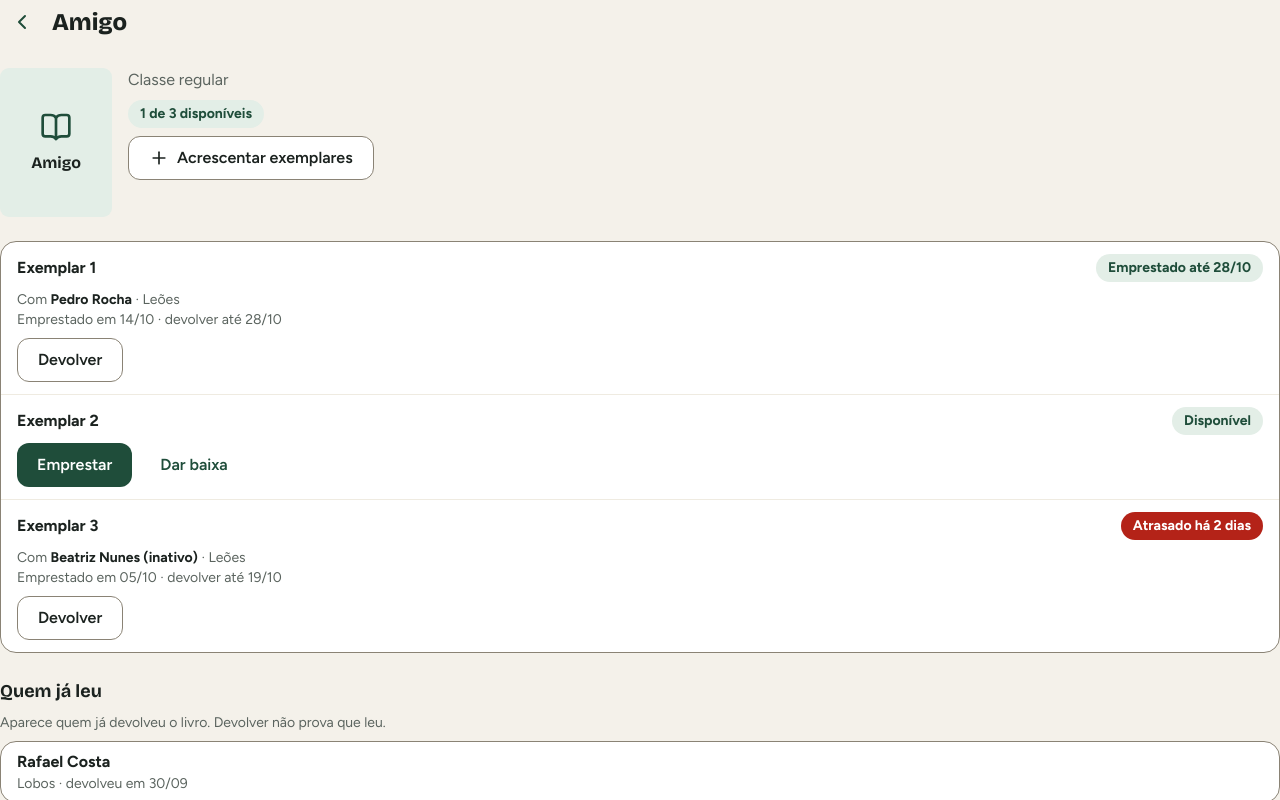
detalhe do livro › Devolver abre o diálogo do empréstimo daquele exemplar e grava a devolução dele
The width and height of the screenshot is (1280, 800).
What coordinates should you click on to do the following:
click the button with aria-label "Devolver o exemplar 3"
I would click on:
 (70, 618)
Its box is [17,596,123,640].
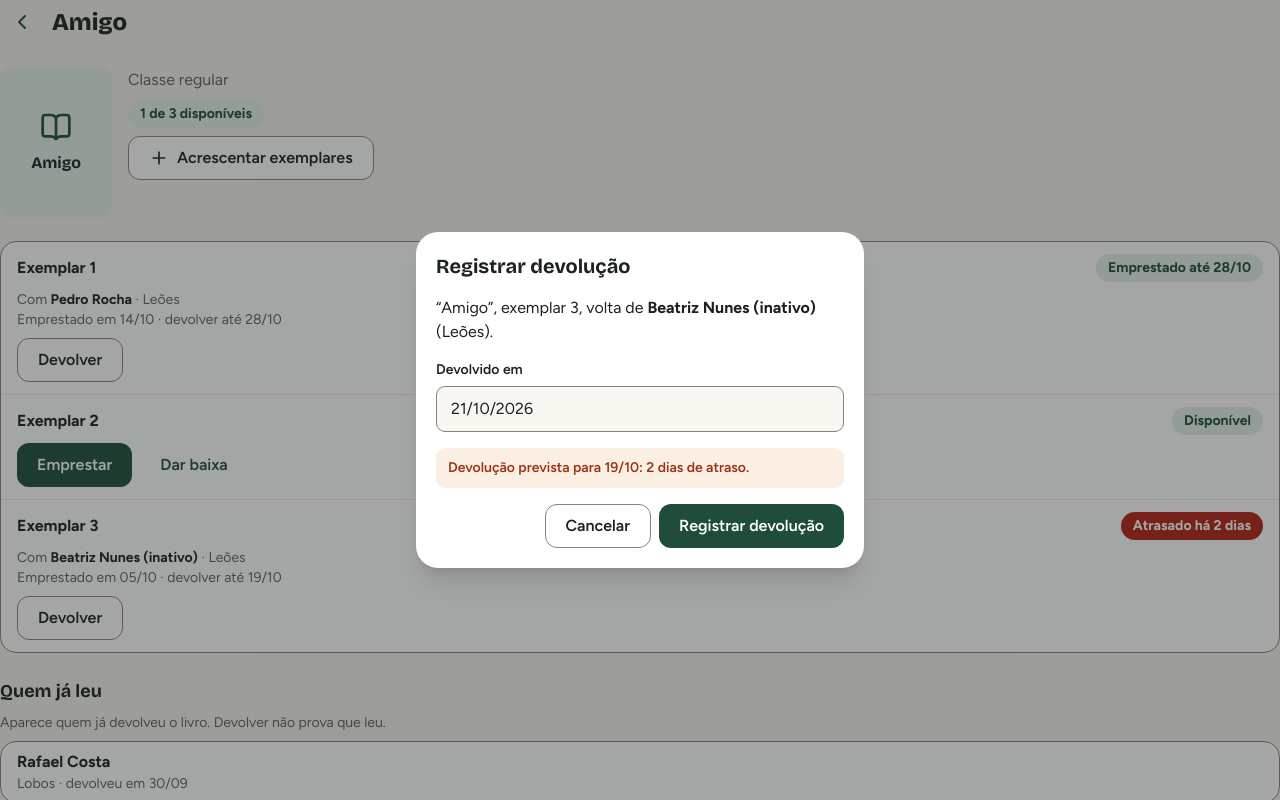
Expected: the text "Beatriz Nunes (inativo)" is shown, [647,298,816,317]
Expected: the text "Devolução prevista para 19/10: 2 dias de atraso." is shown, [436,448,844,488]
What coordinates should you click on to do the following:
click the button "Registrar devolução"
I would click on:
 (752, 526)
Its box is [659,504,844,548].
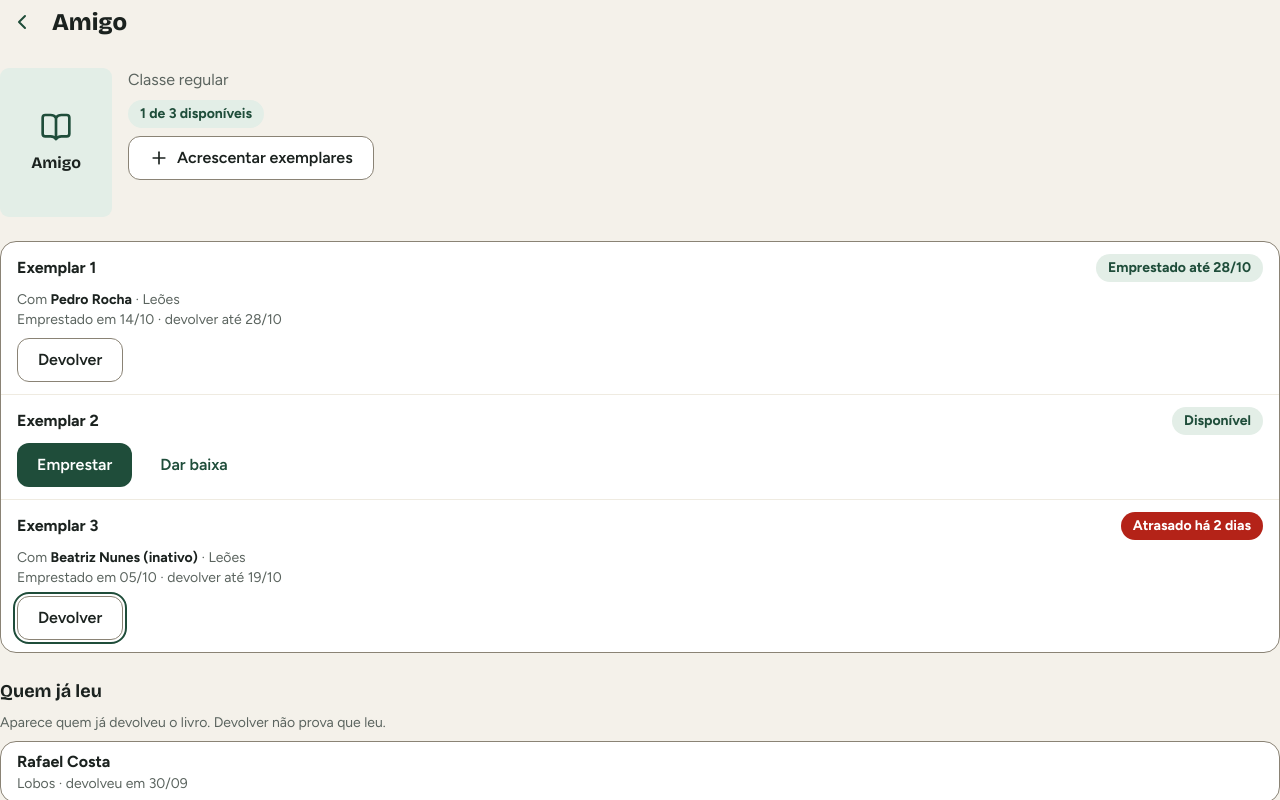
Expected: the dialog is gone
